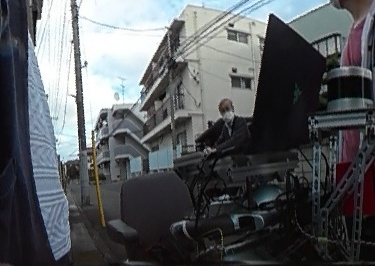person: (210, 96, 248, 148)
